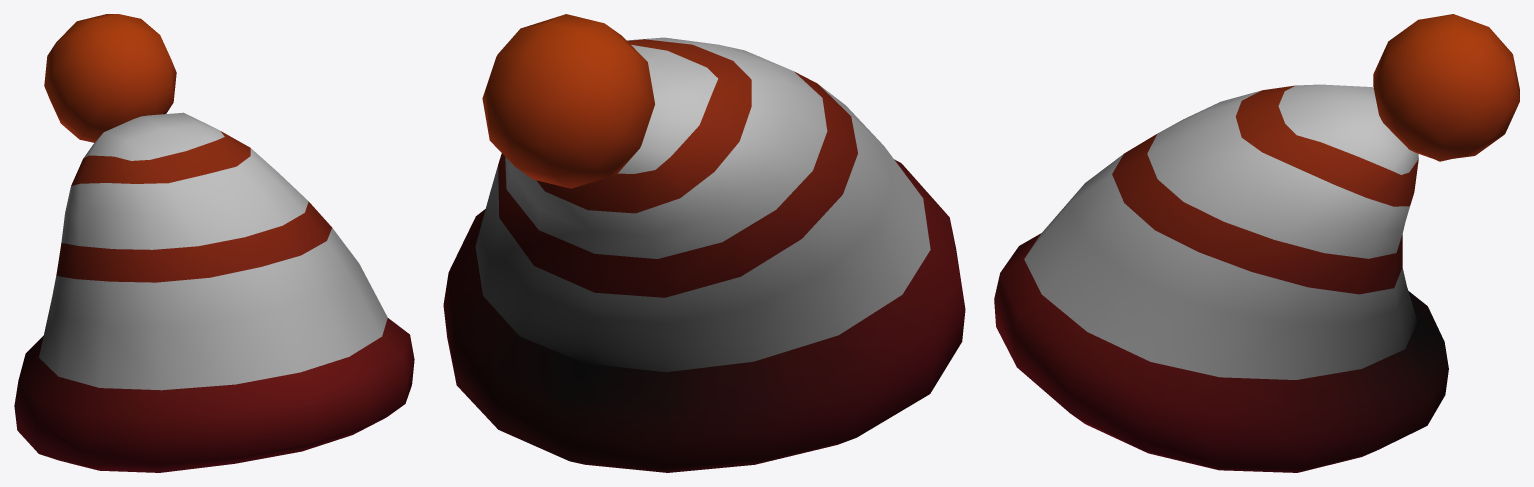
Rendered from Cap_00.fbx.
The picture shows the model from 3 angles, left to right: view 1: azimuth 30°, elevation 25°; view 2: azimuth 150°, elevation 25°; view 3: azimuth 270°, elevation 25°; orthographic projection. The views are drawn at different scales.
Parts seen in each view (by area): view 1: Cap_00; view 2: Cap_00; view 3: Cap_00.
Part boxes in pixels (left/top/right/bottom): Cap_00: left=14, top=14, right=414, bottom=472; Cap_00: left=443, top=14, right=965, bottom=472; Cap_00: left=994, top=14, right=1519, bottom=472.
Bounding box in the file's own units: 81.11 × 76.44 × 93.77.
